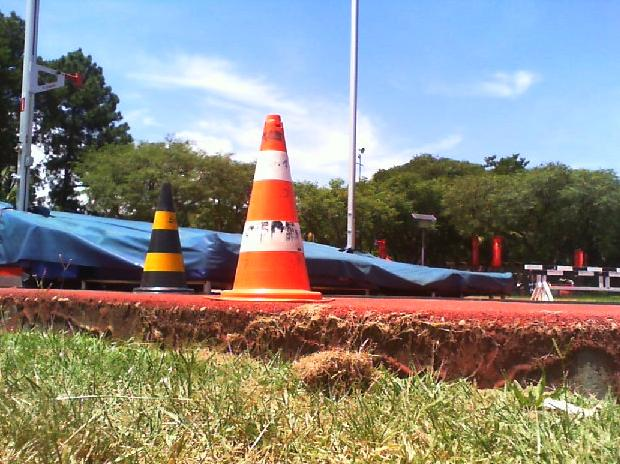0 cone: (205, 116, 335, 304), (133, 184, 195, 293)
